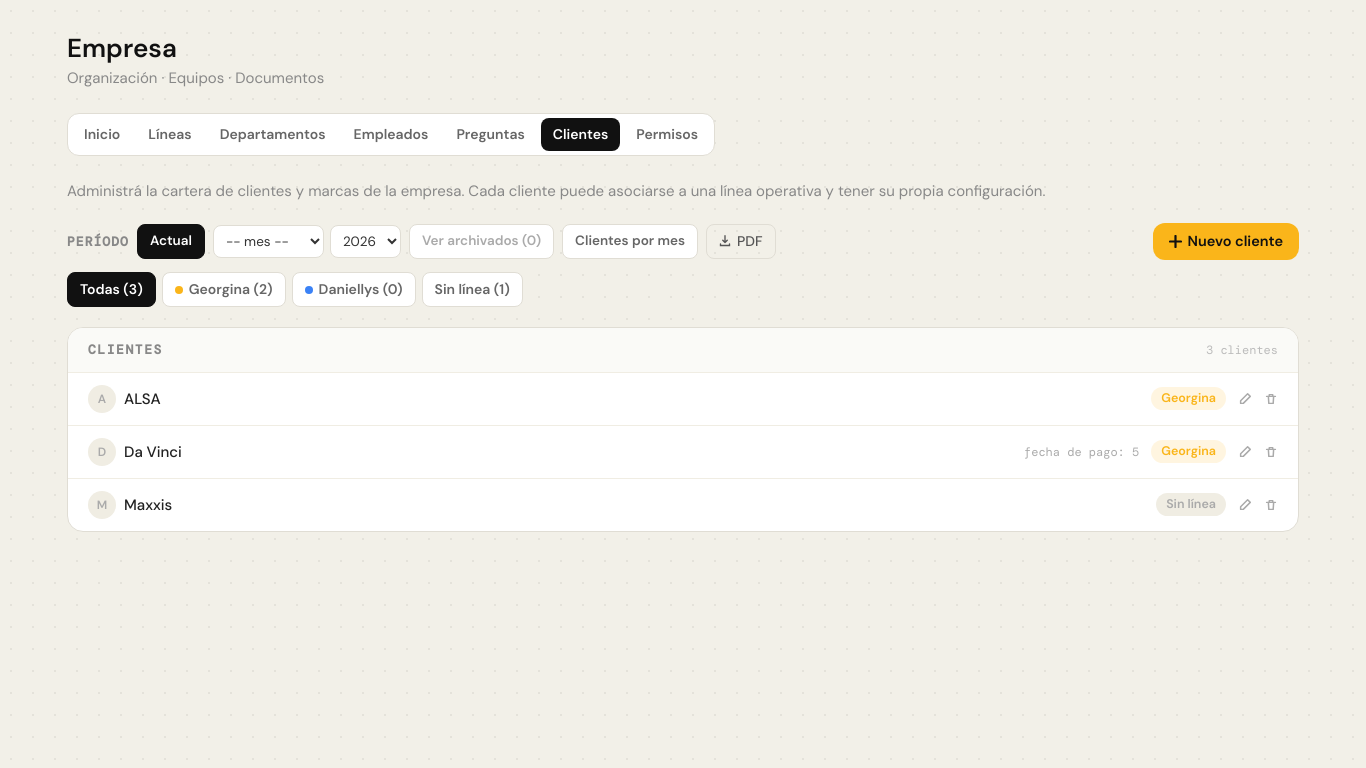
Test case: ClientsView (sección Clientes en Empresa) — lista plana › los filtros por línea reducen la lista visible
The image size is (1366, 768).
Expected: the text "ALSA" is shown, 124,388 -> 161,410
Click the button "Sin línea (1)".
click(472, 290)  # box 422,272 -> 523,307
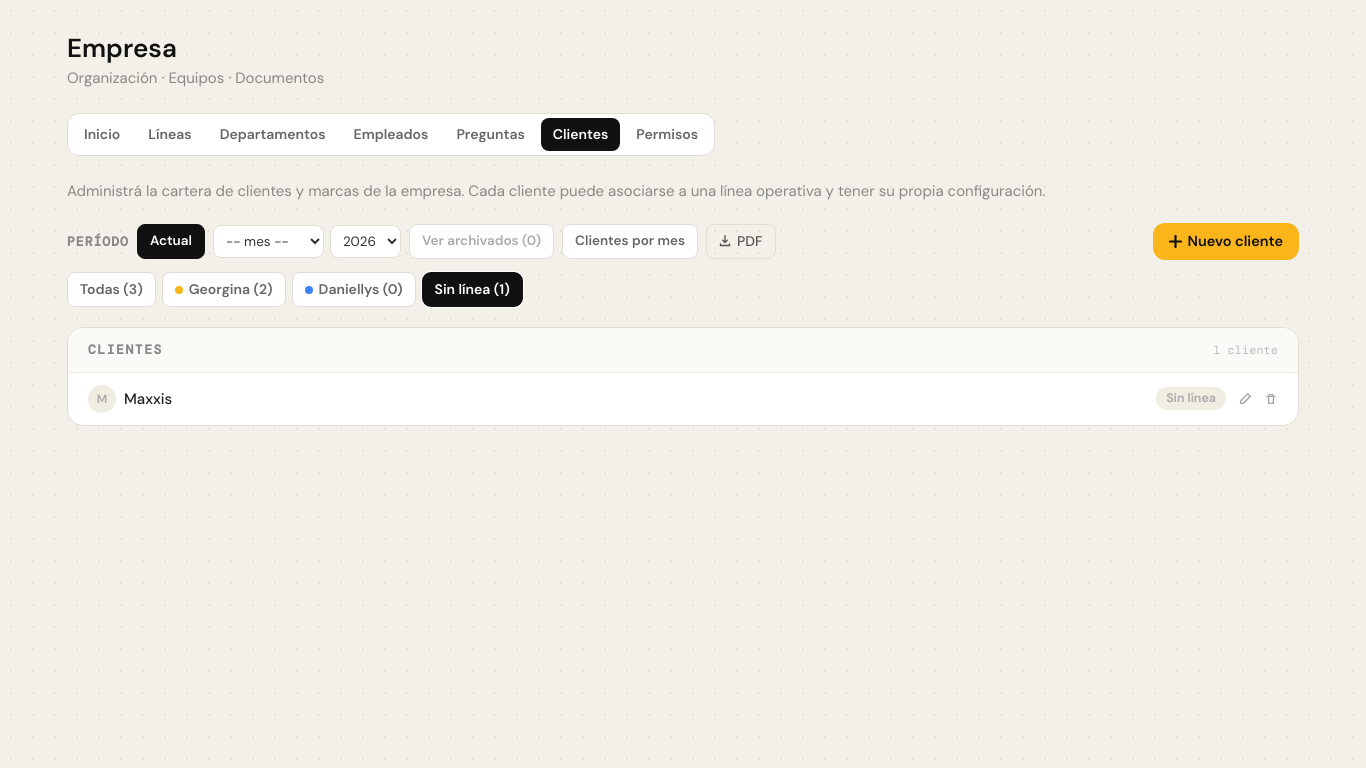
Expected: the text "Maxxis" is shown, 124,388 -> 172,410
Result: the text "ALSA" is gone
